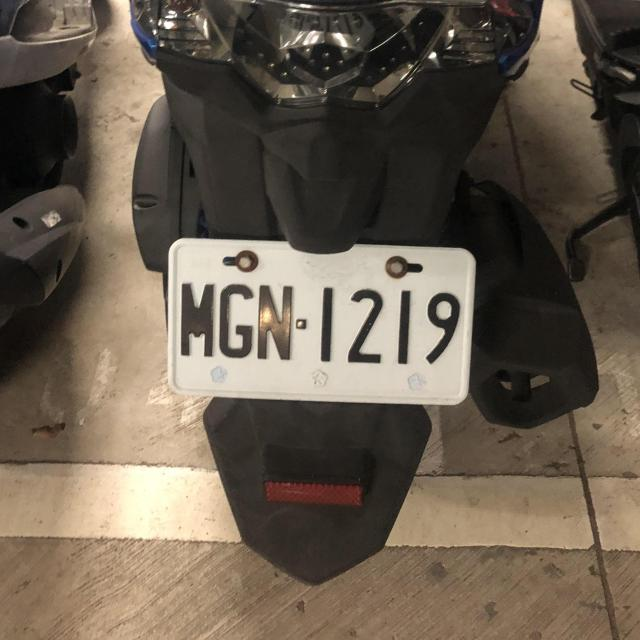W: (158, 231, 481, 411)
